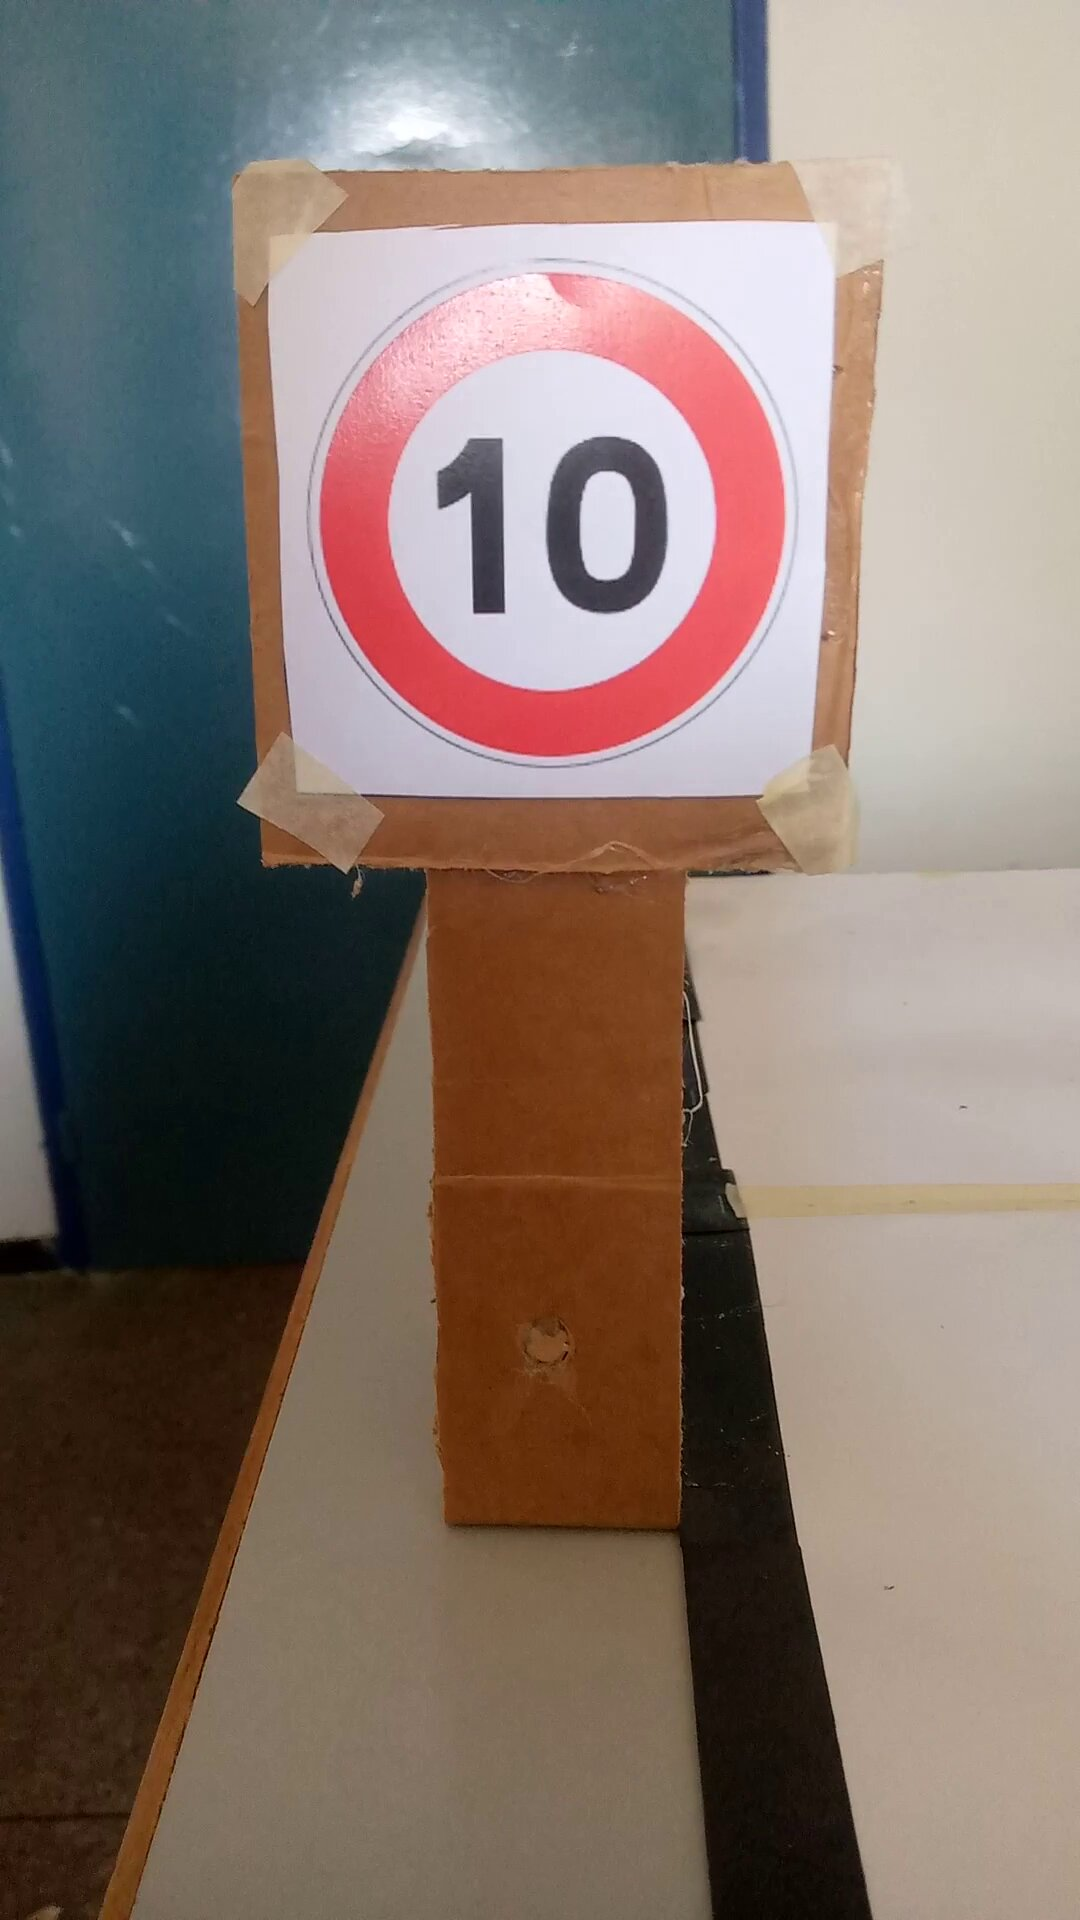panel011: (278, 211, 829, 820)
